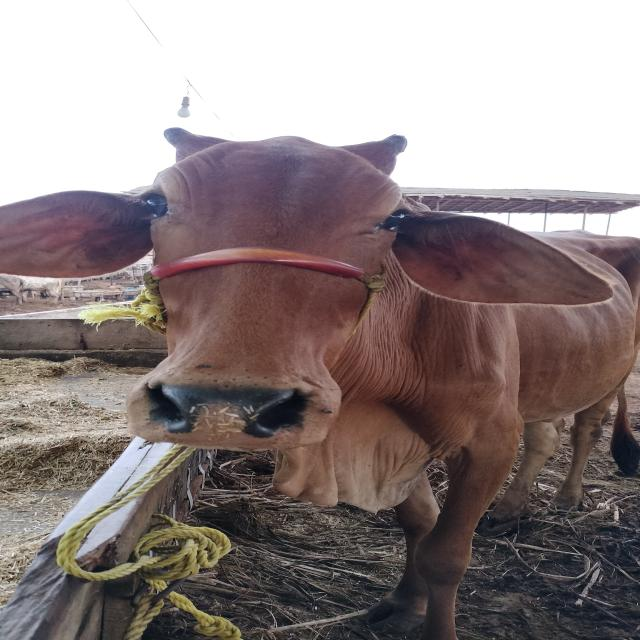muzzles: (129, 372, 319, 452)
